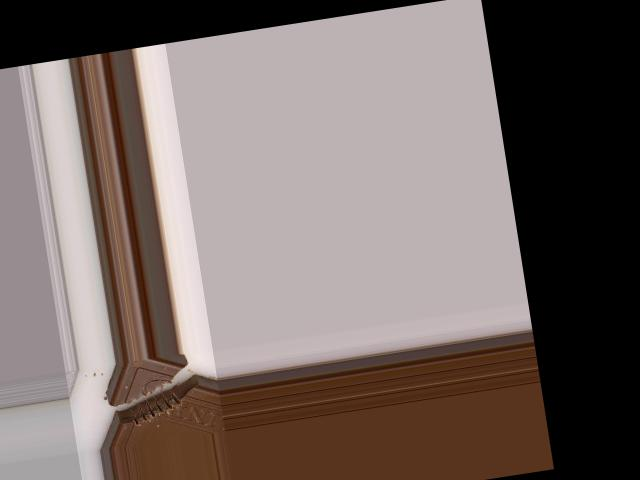chocolate: (86, 348, 224, 449)
